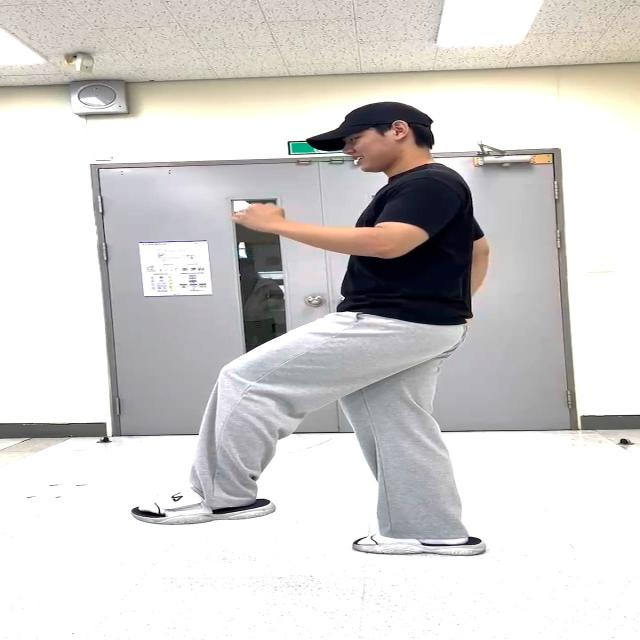leg: (136, 315, 357, 532)
